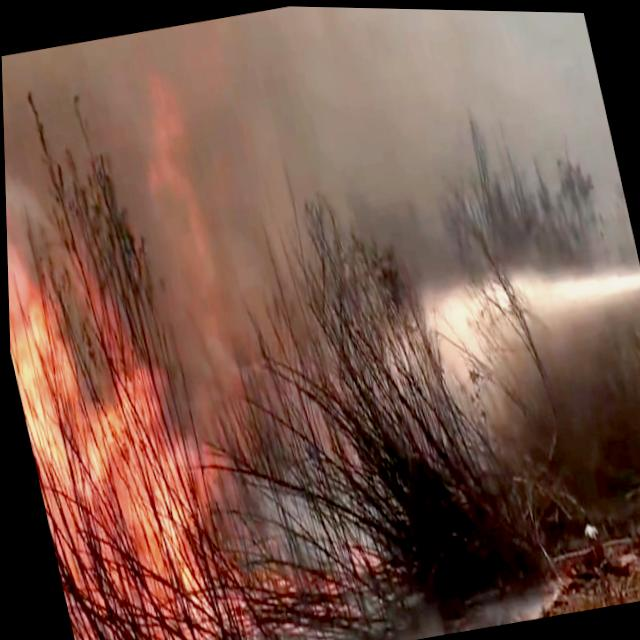fire: (3, 132, 338, 640)
smoke: (490, 9, 615, 168)
